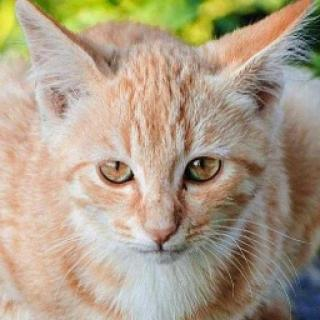cat: (17, 0, 315, 270)
nose: (143, 200, 177, 244)
